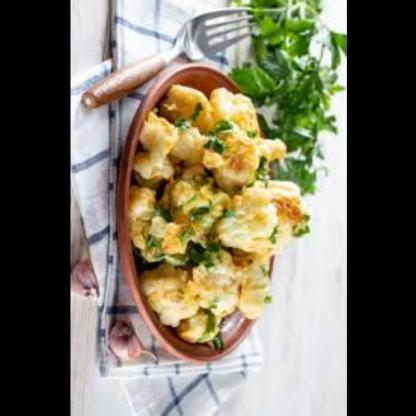cayliflower: (135, 79, 315, 354)
